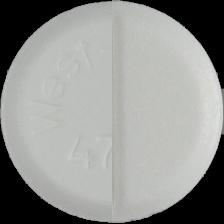35356-673: (0, 0, 224, 224)
